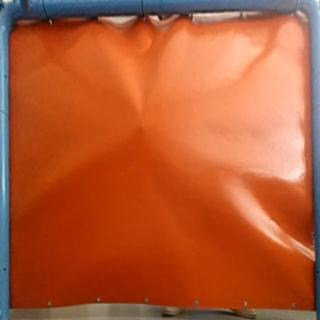Hit-hRxx: (135, 121, 148, 134)
